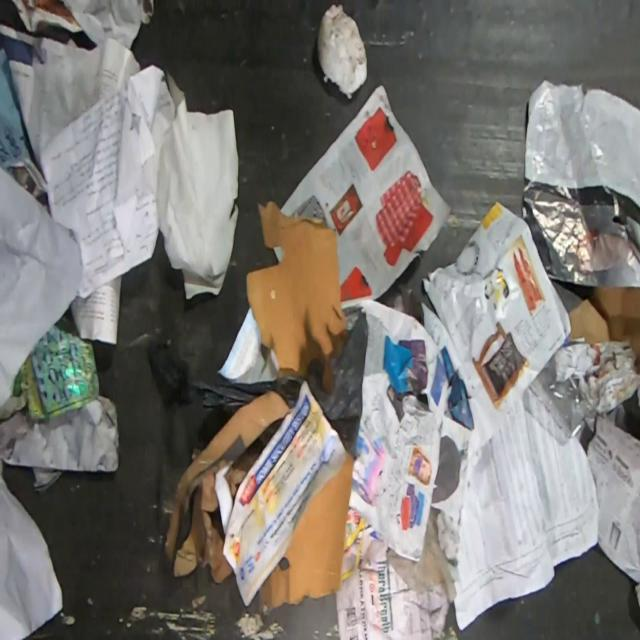cardboard: (163, 390, 291, 585), (245, 200, 348, 394), (258, 451, 356, 612), (568, 286, 640, 374)
soft_plastic: (147, 338, 301, 448), (527, 358, 589, 439), (306, 354, 363, 442)
